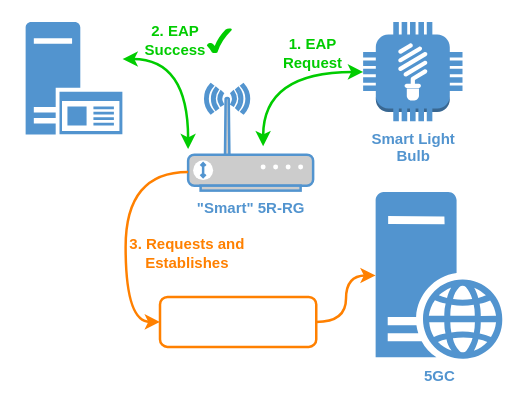
Some shapes in this 524 by 408 pixel diagram are drawn without their labels. Here are the shapes that lost their labels. From the top down, the centre of each, then its label:
(73,77): Authentication Server
(237,321): Unique PDU Session (Proxy Identity)
